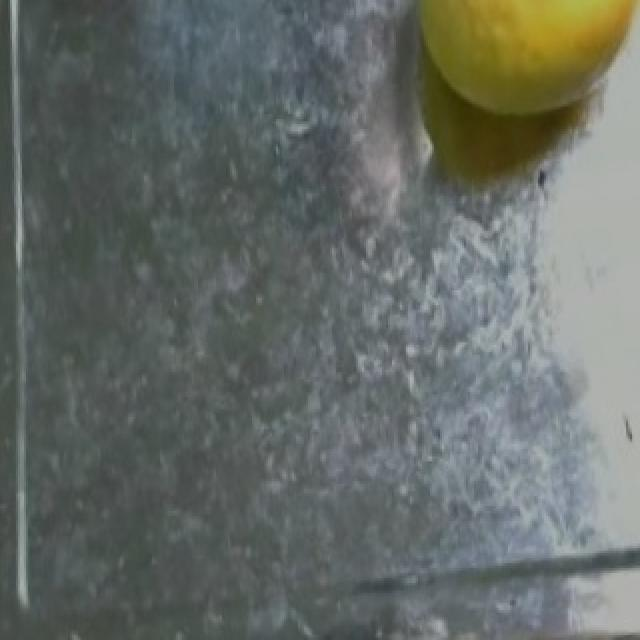fruit: (388, 0, 640, 146)
